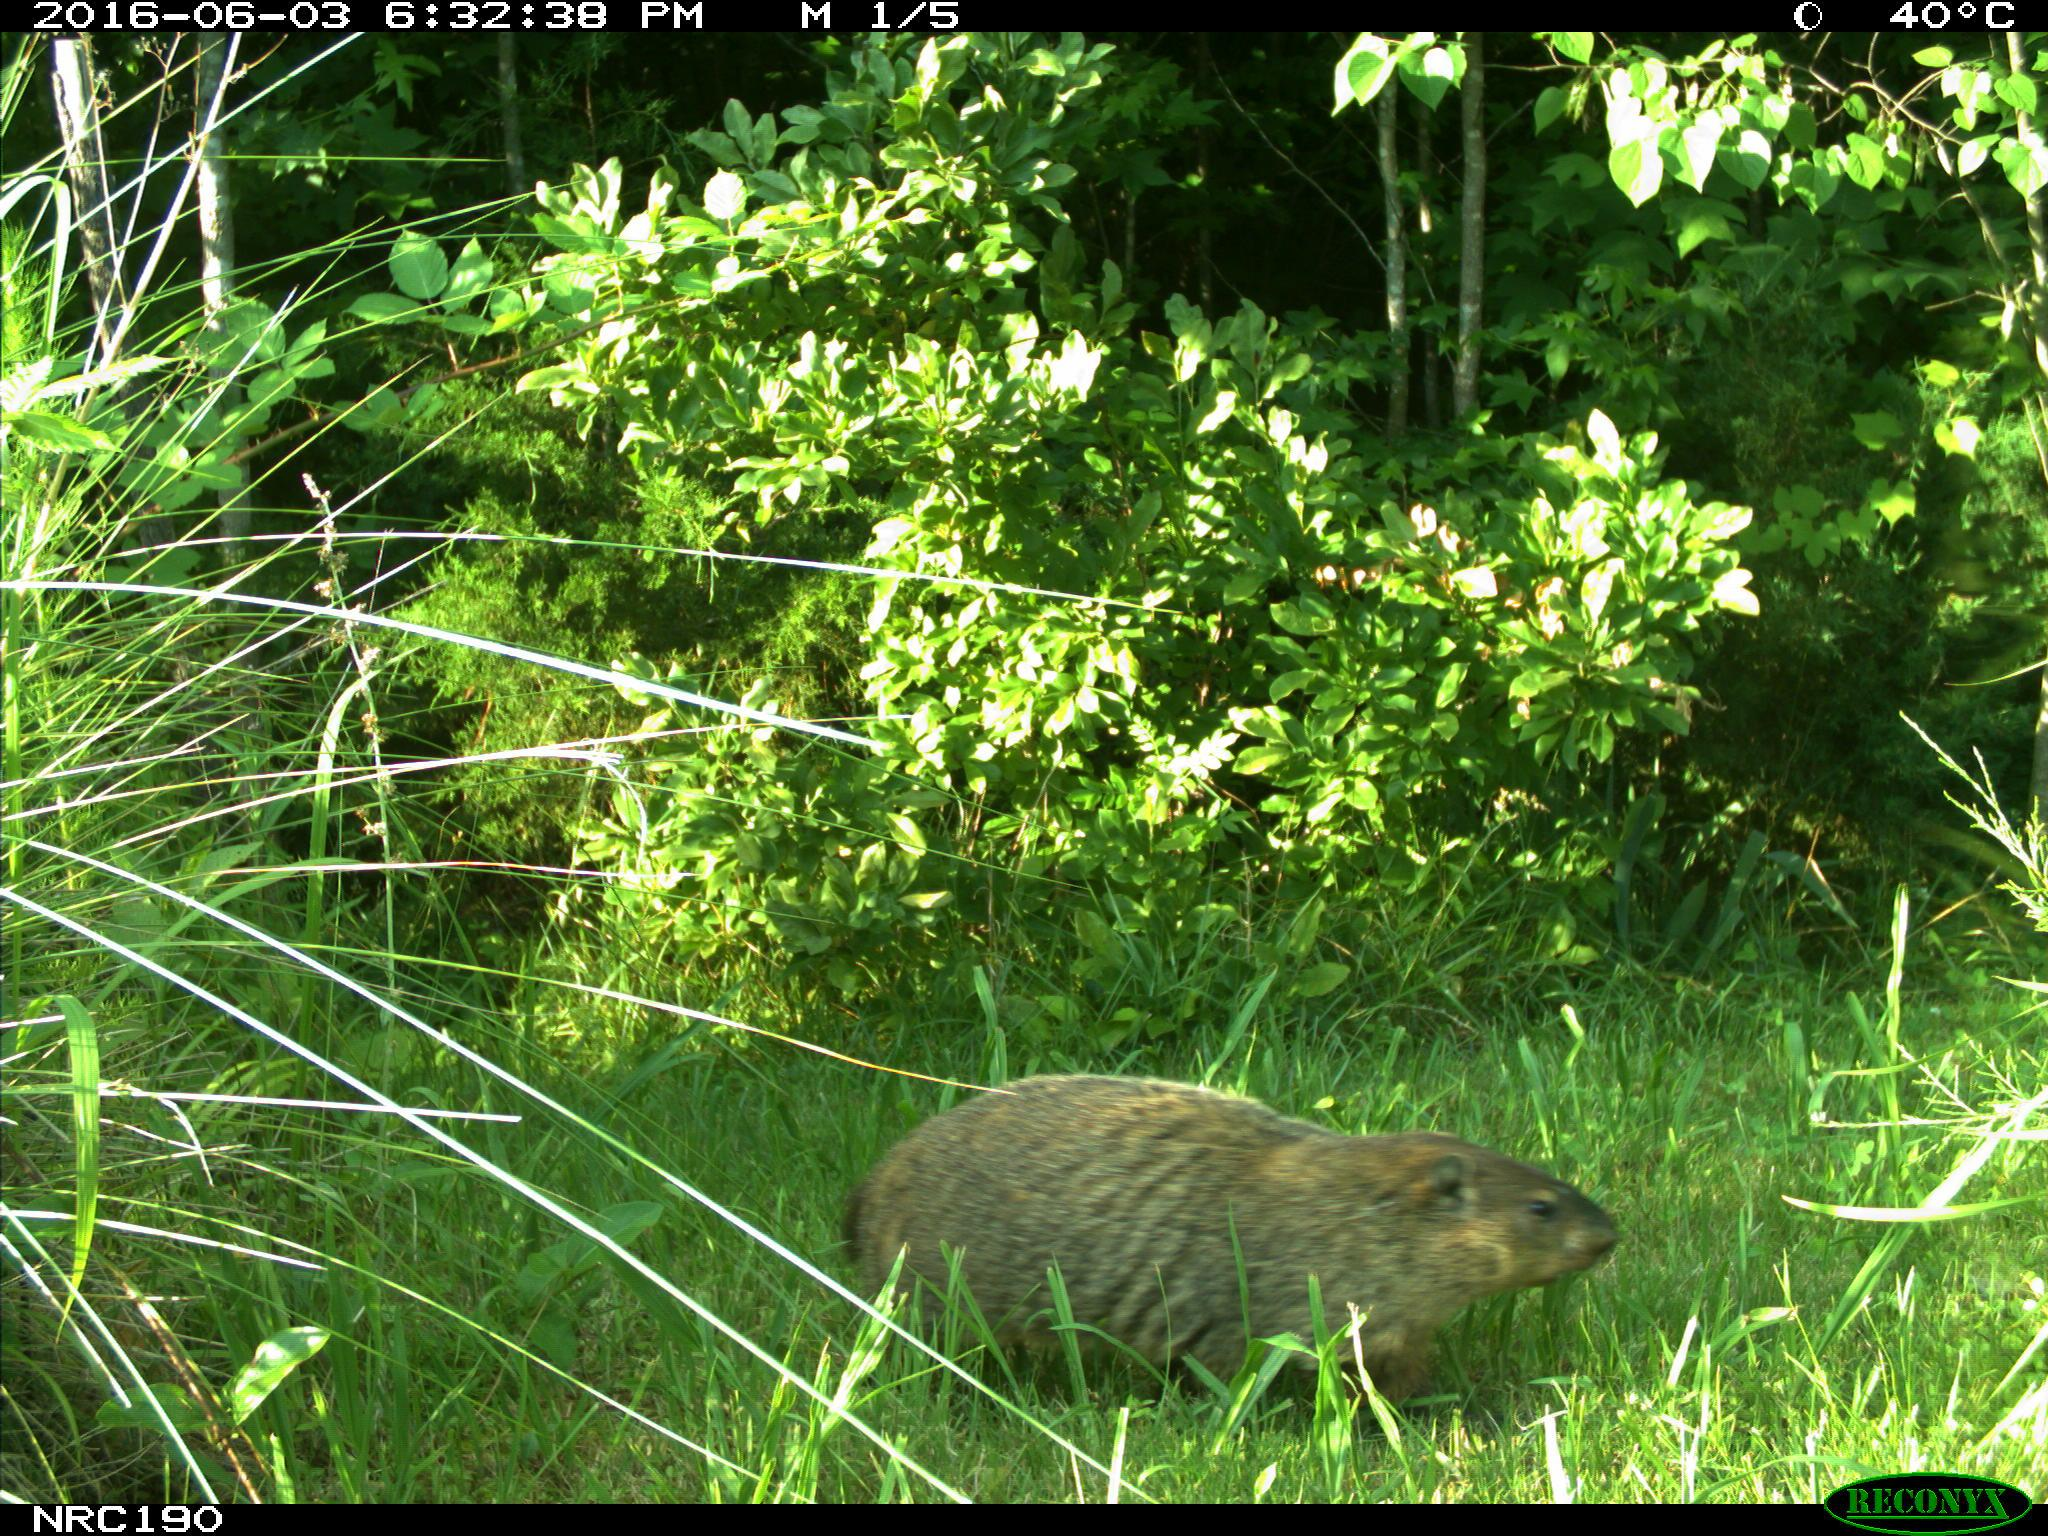Animal: (842, 1070, 1616, 1418)
